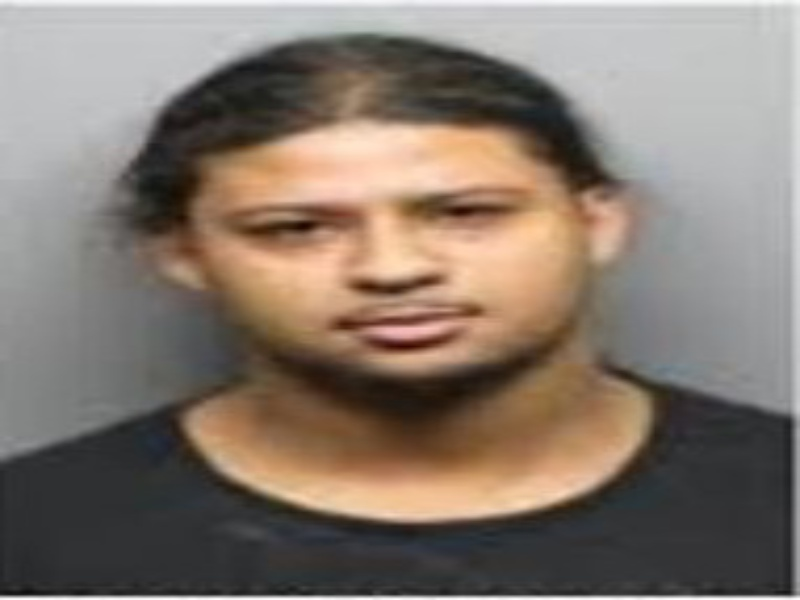TsisyArotava: (130, 21, 668, 432)
